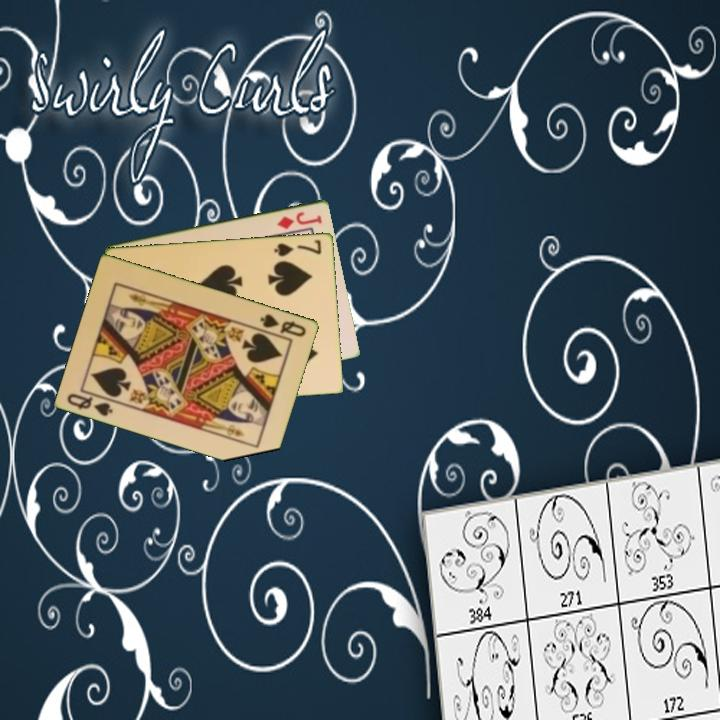7s: (271, 236, 324, 259)
Jd: (274, 208, 325, 232)
Qs: (64, 387, 120, 419), (257, 310, 309, 340)
